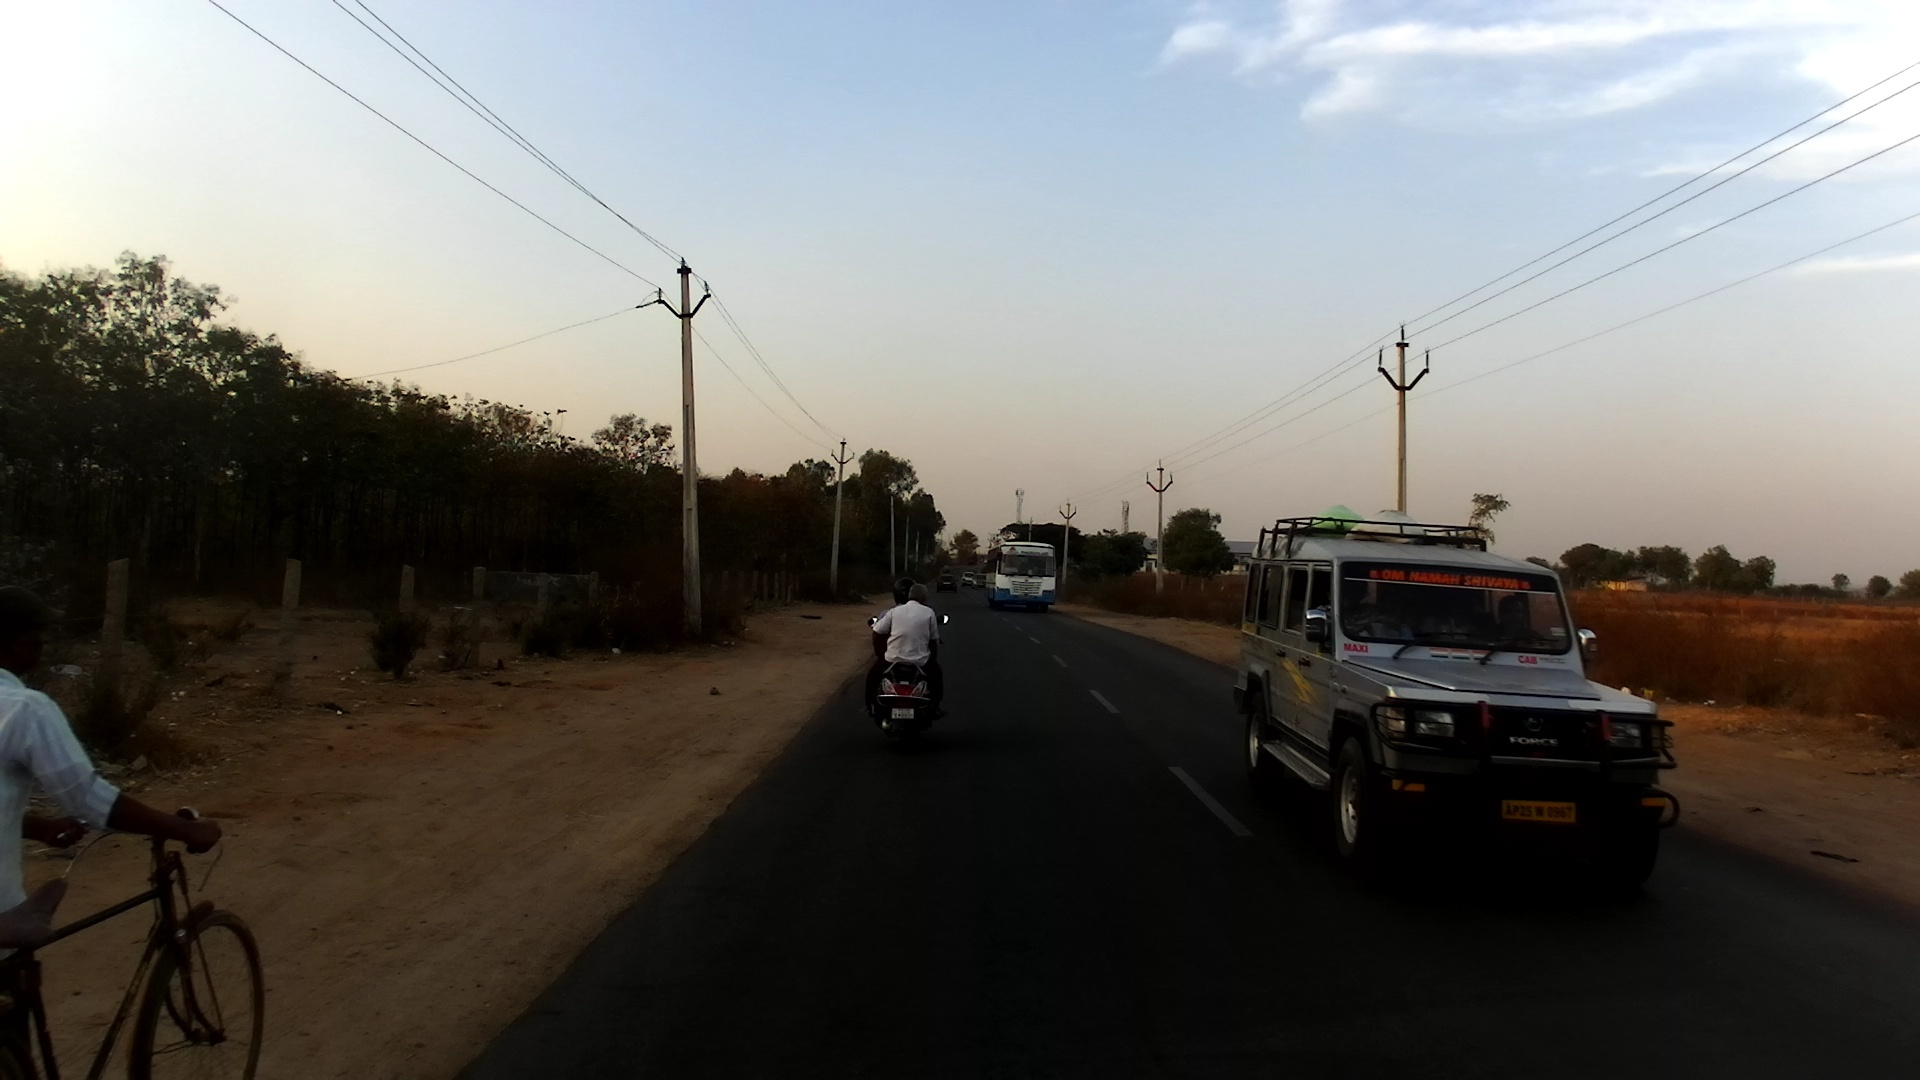bicycle: (1, 795, 264, 1080)
bus: (984, 542, 1061, 616)
car: (1237, 506, 1674, 901), (937, 571, 958, 593), (975, 572, 991, 590), (963, 572, 976, 587)
motorcycle: (862, 614, 946, 745)
rider: (1, 583, 223, 1077), (868, 582, 949, 719), (874, 578, 925, 677)
